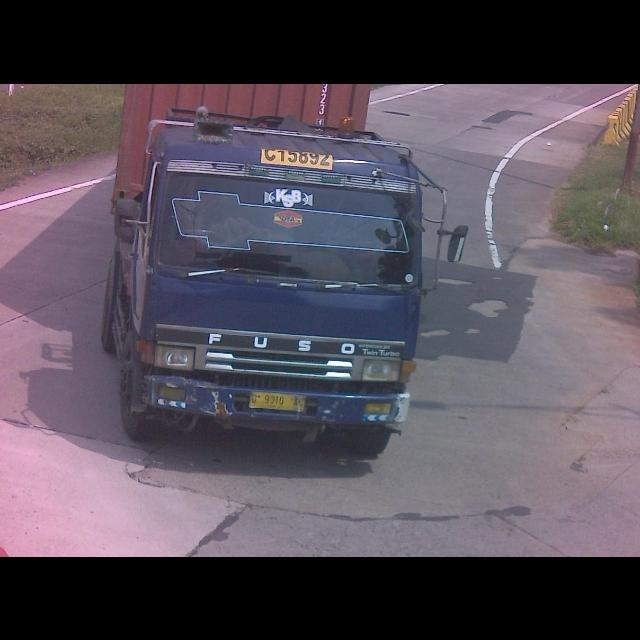plate: (250, 388, 306, 412)
